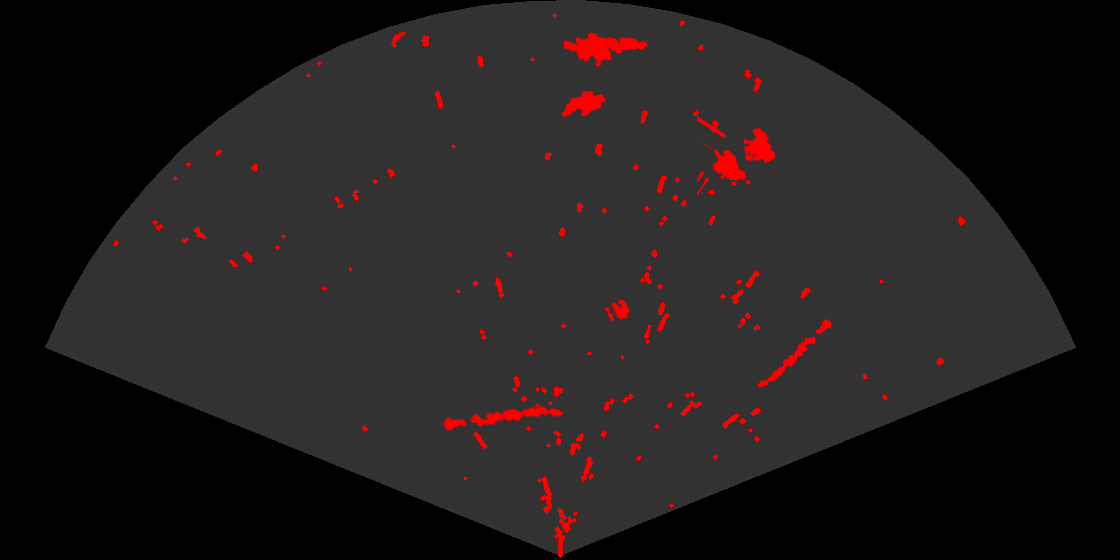AUV: (560, 89, 607, 118)
ball: (603, 298, 631, 324)
cage: (697, 115, 777, 197)
chain: (756, 317, 833, 389), (440, 405, 565, 433)
frogman: (564, 31, 650, 69)
